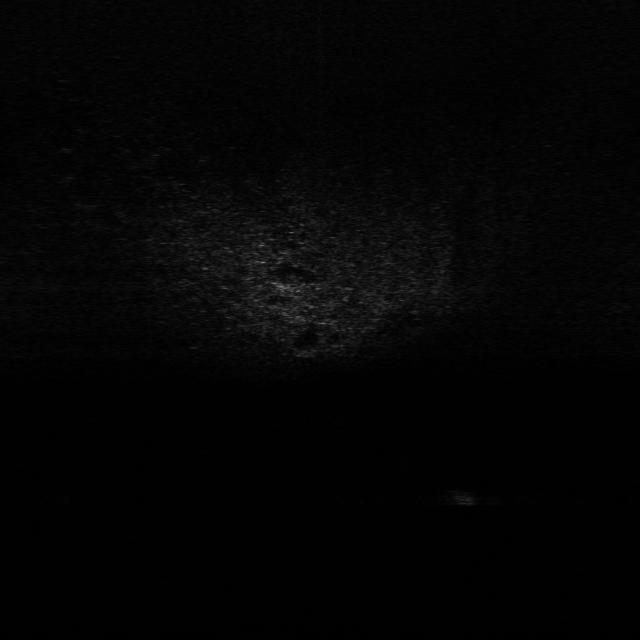cylinder: (442, 486, 484, 510)
